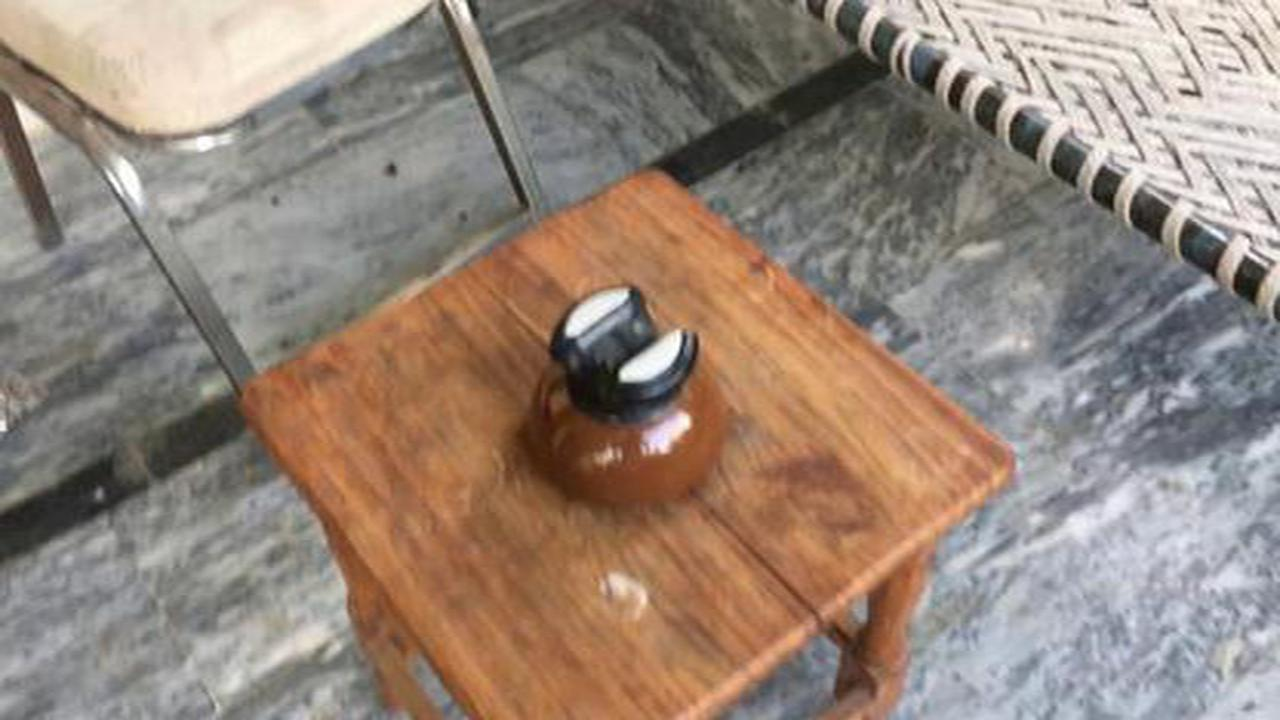insulator_pin: (496, 271, 748, 515)
